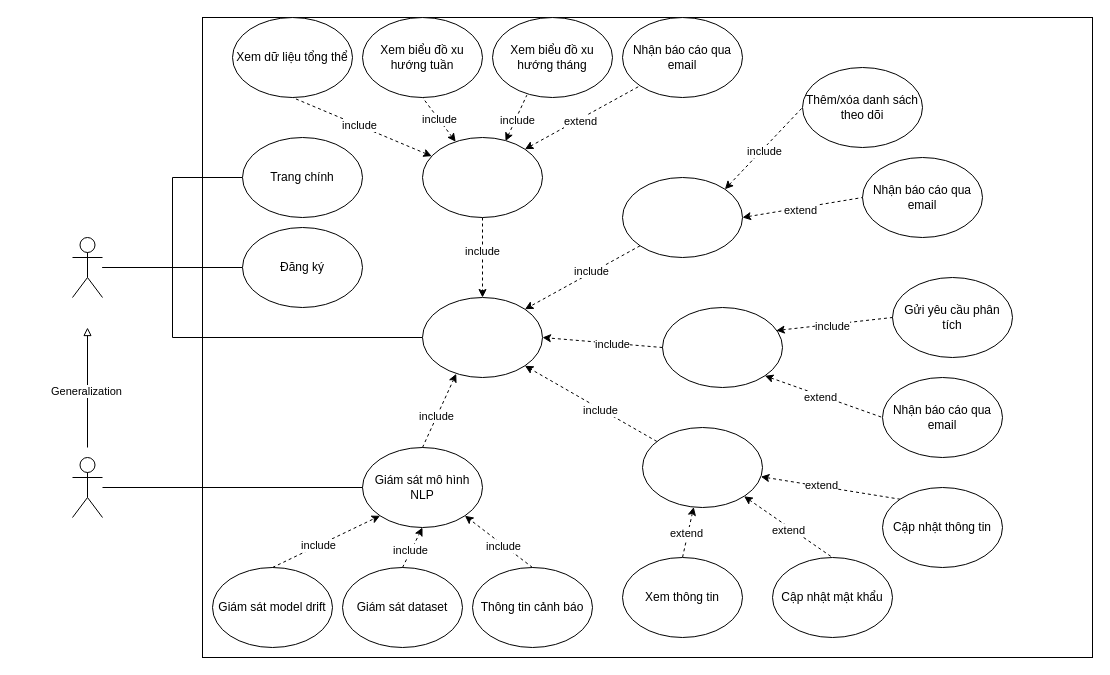
Some shapes in this 1110 by 675 pixel diagram are drawn without their labels. Each missing label, with the centre of its shape:
Người dùng doanh nghiệp: (x=87, y=267)
Quản trị viên: (x=87, y=487)
Theo dõi sản phẩm: (x=682, y=217)
Tài khoản: (x=702, y=467)
Tìm kiếm sản phẩm: (x=482, y=177)
Yêu cầu phân tích sản phẩm: (x=722, y=347)
Đăng nhập: (x=482, y=337)
